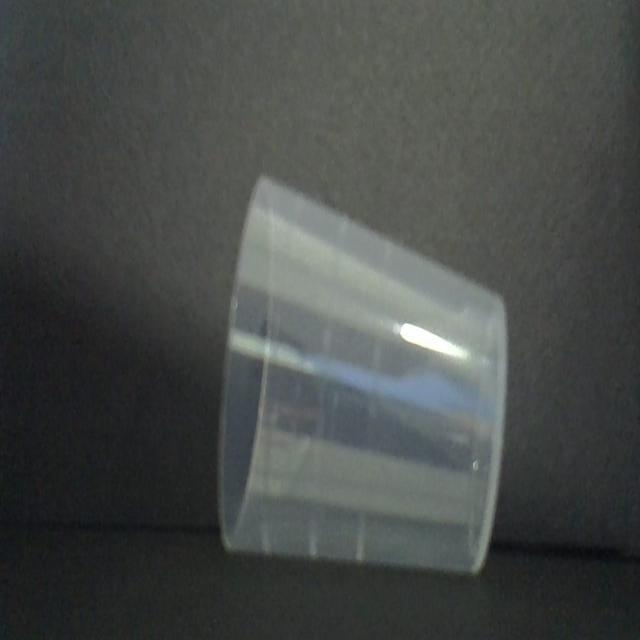bottle: (220, 178, 506, 572)
